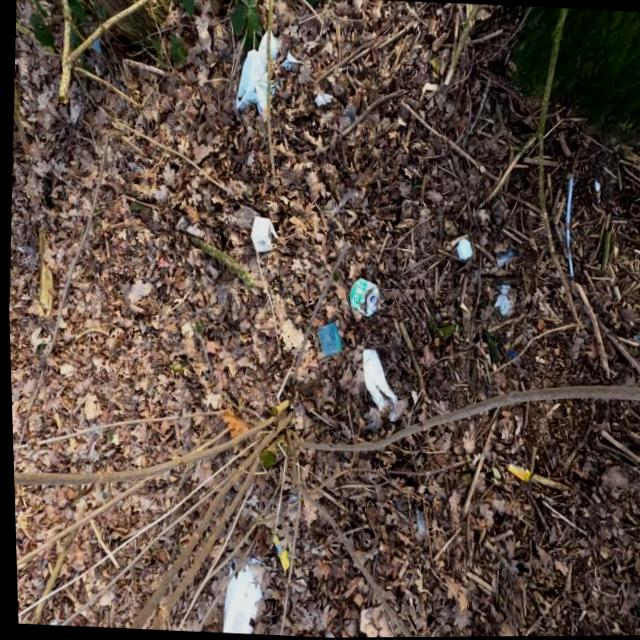Can-Metal: (339, 267, 385, 315)
